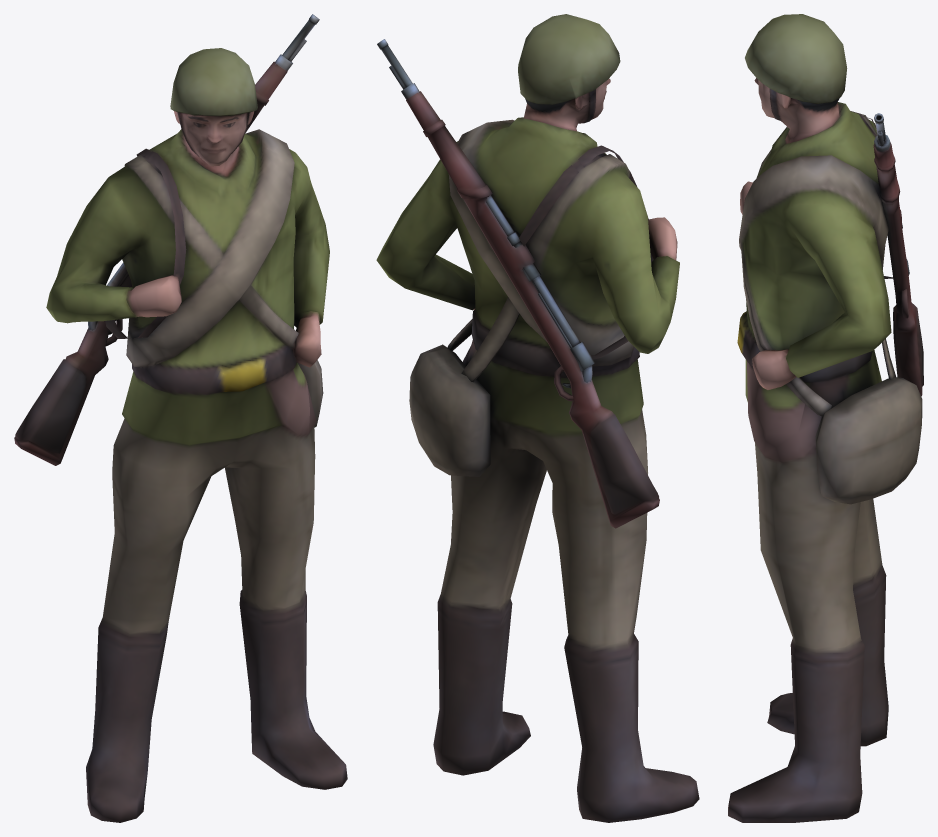
File: Riflemen.glb
3 renders of one model, left to right at view 1: azimuth 30°, elevation 25°; view 2: azimuth 150°, elevation 25°; view 3: azimuth 270°, elevation 25°, orthographic. The views are drawn at different scales.
Parts seen in each view (by area): view 1: low; view 2: low; view 3: low.
Boxes of the visible parts, <box> form: low: <box>14,14,347,822</box>; low: <box>376,14,699,822</box>; low: <box>728,14,923,822</box>.
Bounding box in the file's own units: 0.691 × 1.69 × 0.3983.
Materials: 1 (1 with a texture image).
